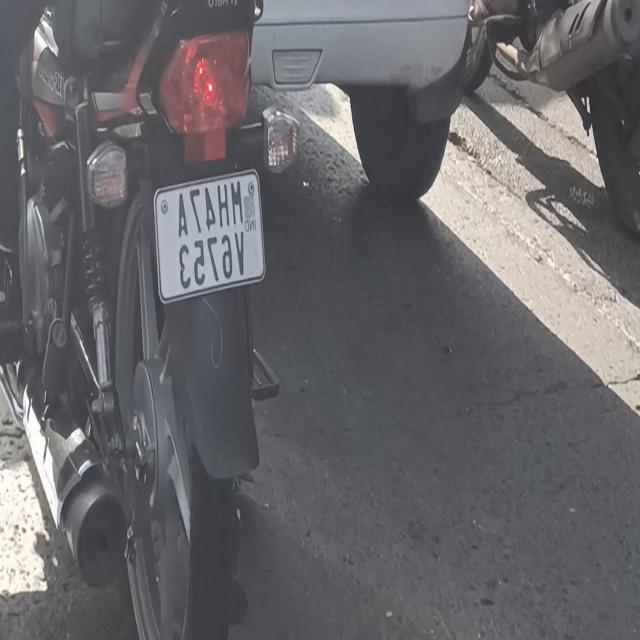license_plate: (150, 160, 268, 307)
